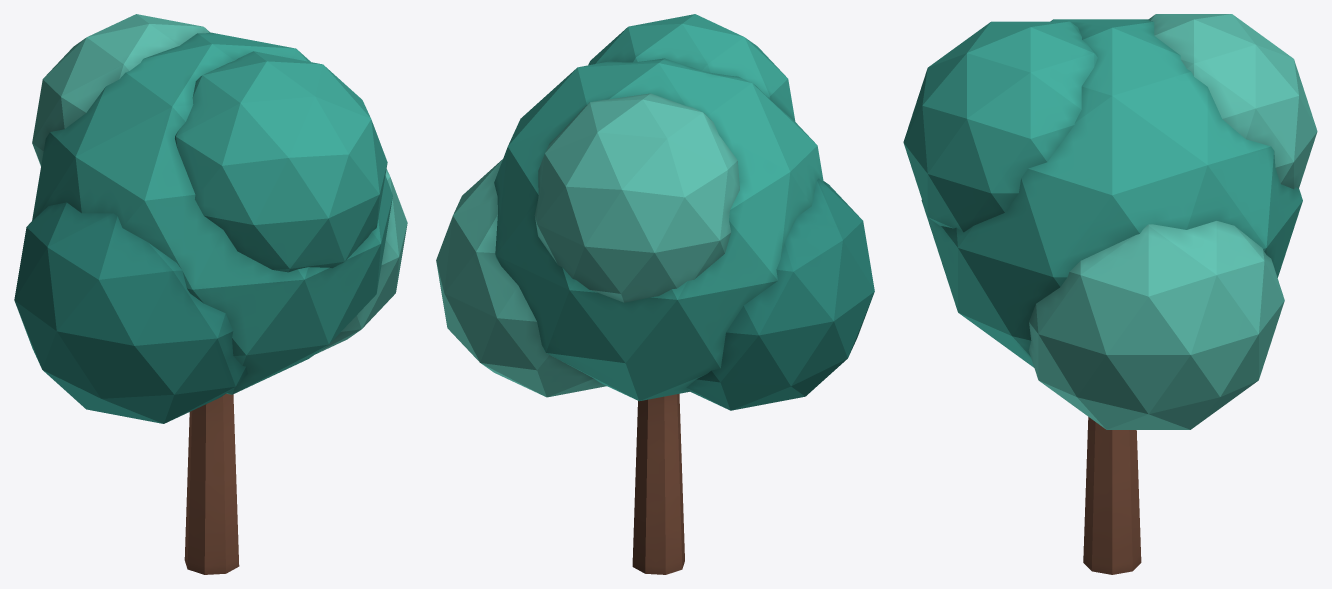
Rendered from StartKit_Tree.fbx.
The picture shows the model from 3 angles, left to right: view 1: azimuth 30°, elevation 25°; view 2: azimuth 150°, elevation 25°; view 3: azimuth 270°, elevation 25°; orthographic projection. The views are drawn at different scales.
Parts seen in each view (by area): view 1: Tree.001; view 2: Tree.001; view 3: Tree.001.
Boxes of the visible parts, x1=… form: Tree.001: x1=14, y1=14, x2=407, y2=574; Tree.001: x1=436, y1=14, x2=874, y2=574; Tree.001: x1=903, y1=14, x2=1317, y2=574.
Bounding box in the file's own units: 2.51 × 3.3 × 2.28.
1 material, 1 textured.
